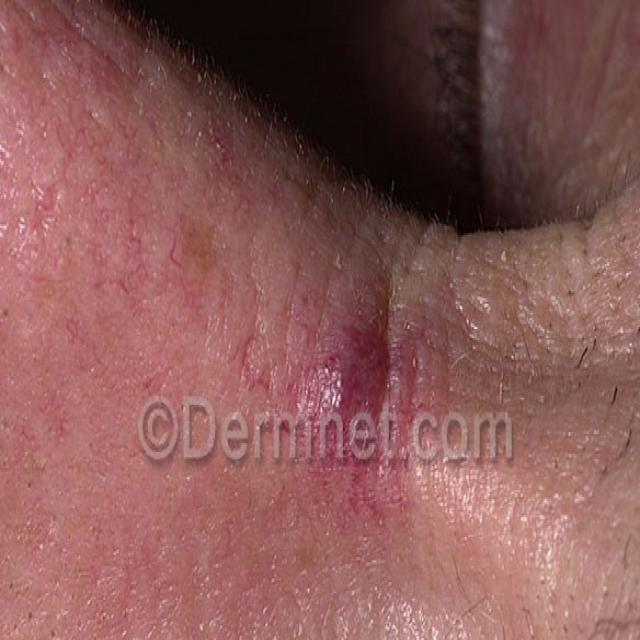Vascular Tumors: (290, 296, 462, 554)
